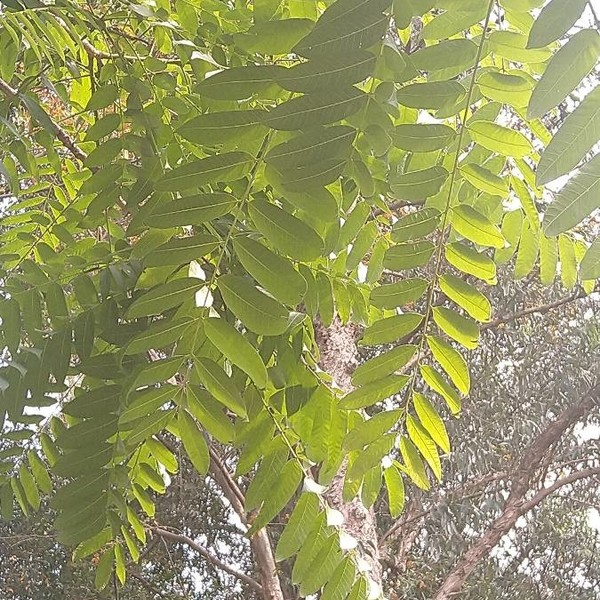obstacle: (45, 24, 460, 530)
